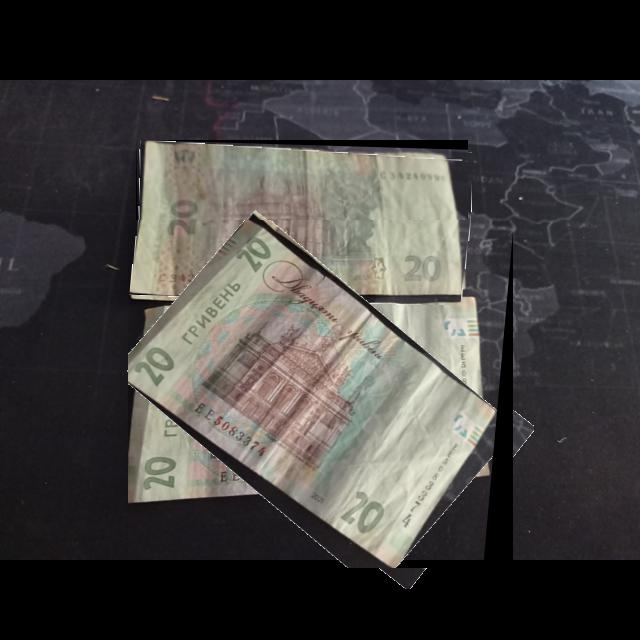20uah: (128, 221, 501, 569), (140, 142, 469, 294)
